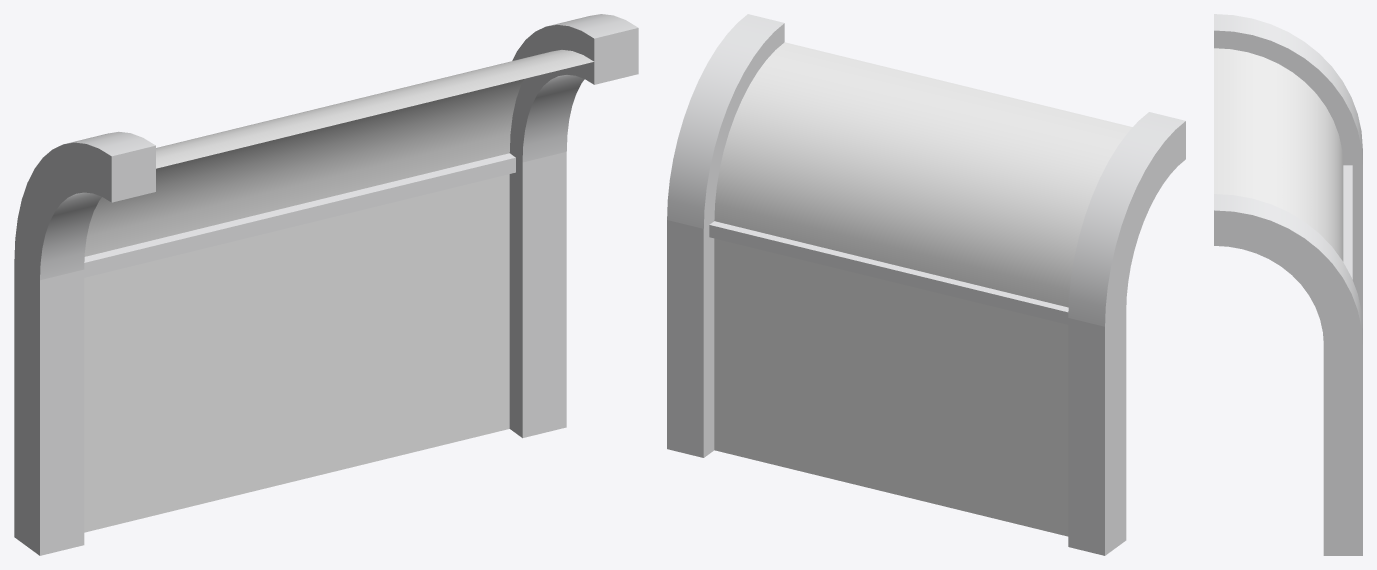
The model's file is fence-curved.glb.
3 renders of one model, left to right at view 1: azimuth 30°, elevation 25°; view 2: azimuth 150°, elevation 25°; view 3: azimuth 270°, elevation 25°, orthographic. The views are drawn at different scales.
Visible parts, largest first — view 1: fenceCurved; view 2: fenceCurved; view 3: fenceCurved.
Part boxes in pixels (bbox=[...]): fenceCurved: bbox=[14, 14, 638, 555]; fenceCurved: bbox=[667, 14, 1185, 555]; fenceCurved: bbox=[1214, 14, 1362, 555].
Size of the model in its own units: 6 by 4.92 by 1.92.
2 materials, 1 textured.
